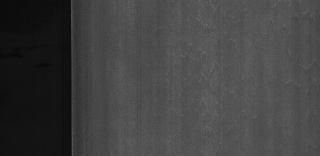silk spot: (173, 4, 263, 134)
